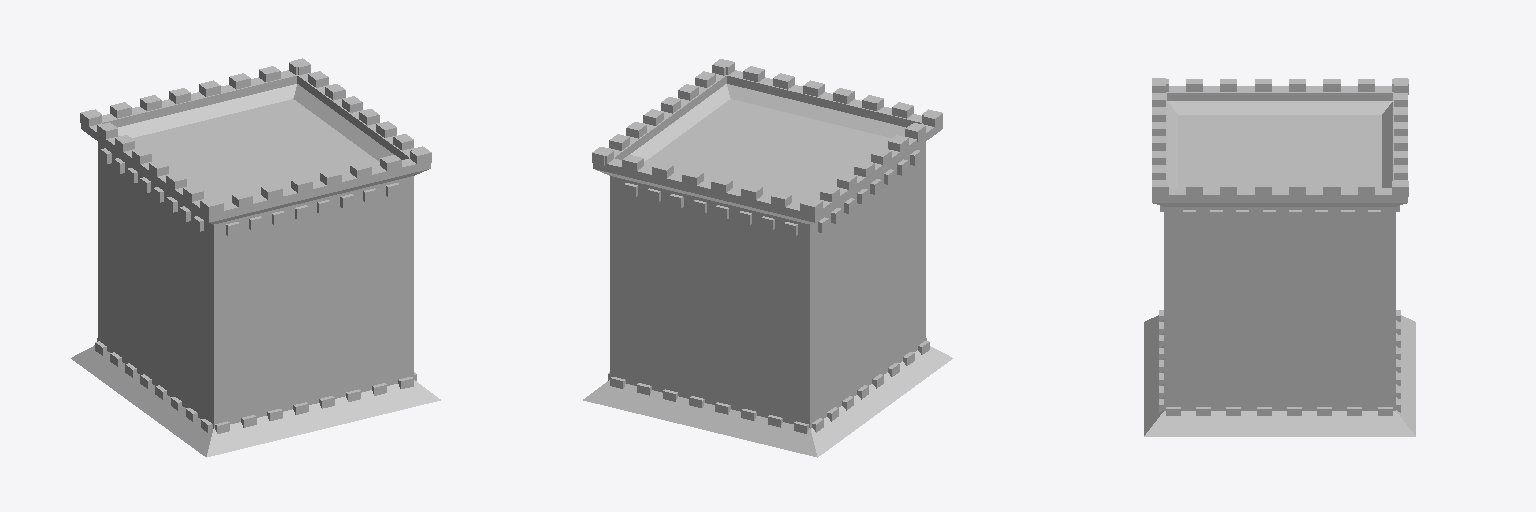
File: CastleBase.obj
3 renders of one model, left to right at view 1: azimuth 30°, elevation 25°; view 2: azimuth 150°, elevation 25°; view 3: azimuth 270°, elevation 25°, orthographic.
Parts seen in each view (by area): view 1: Part_Part_Cube.001_Cube.020; view 2: Part_Part_Cube.001_Cube.020; view 3: Part_Part_Cube.001_Cube.020.
Boxes of the visible parts, box(x1,y1,x2,y2) form: Part_Part_Cube.001_Cube.020: box(71, 58, 440, 457); Part_Part_Cube.001_Cube.020: box(583, 59, 952, 457); Part_Part_Cube.001_Cube.020: box(1144, 78, 1415, 436).
Size of the model in its own units: 1.91 by 1.91 by 1.91.